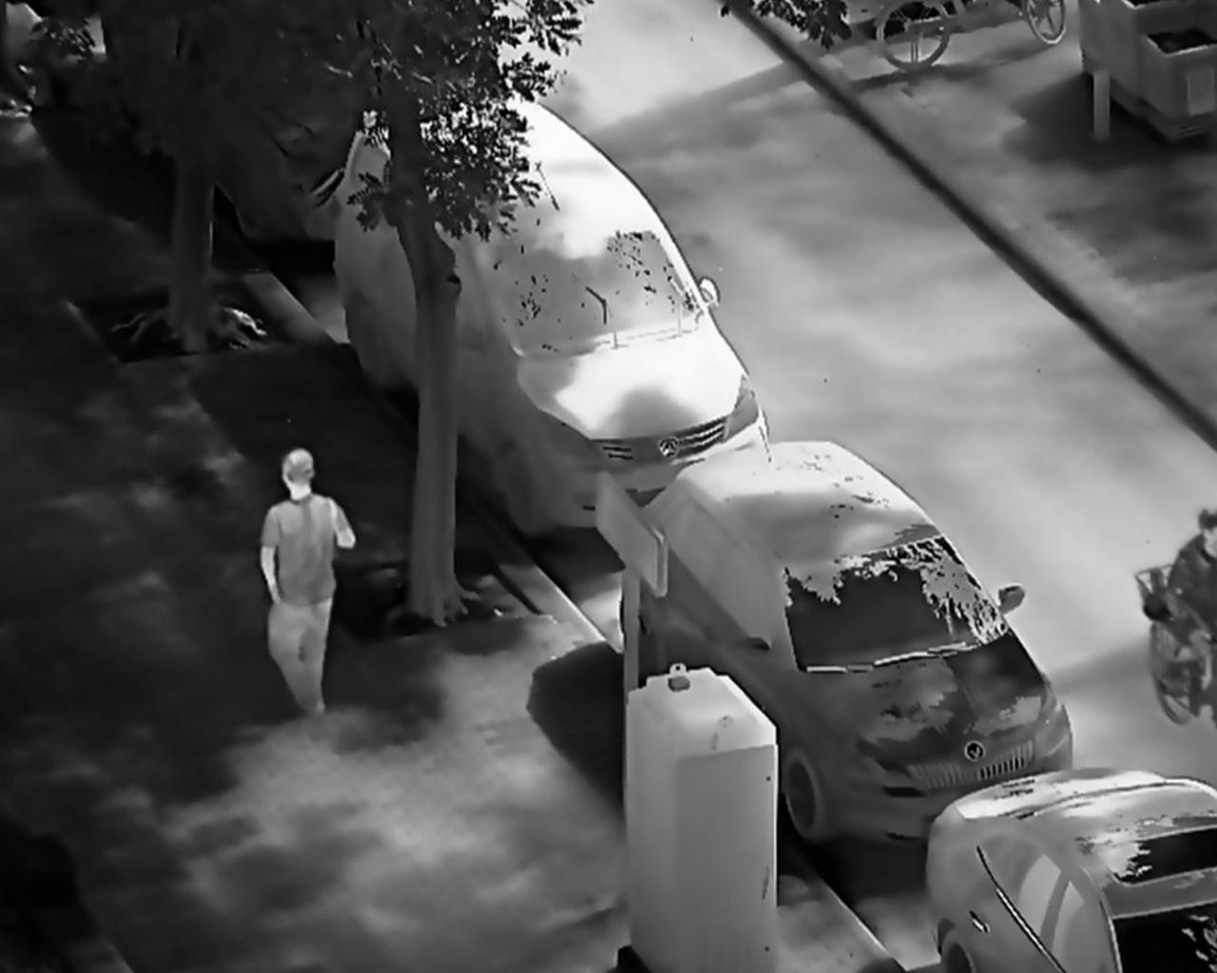person: (255, 446, 359, 728)
